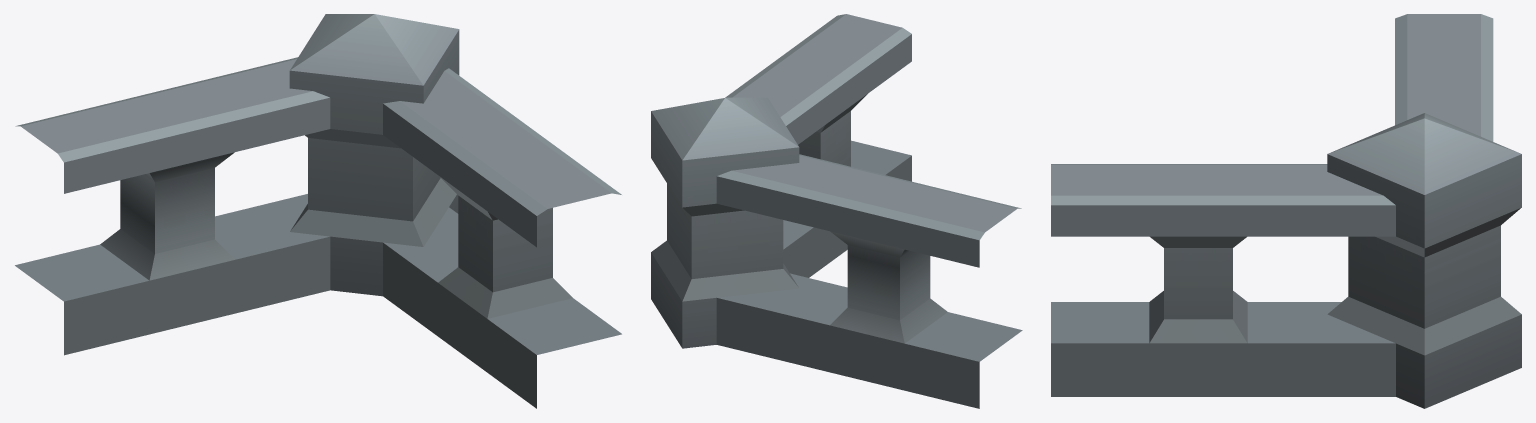
File: barrier-corner-gltf.glb
The picture shows the model from 3 angles, left to right: view 1: azimuth 30°, elevation 25°; view 2: azimuth 150°, elevation 25°; view 3: azimuth 270°, elevation 25°; orthographic projection. The views are drawn at different scales.
Visible parts, largest first — view 1: barrier_corner; view 2: barrier_corner; view 3: barrier_corner.
Part boxes in pixels (left/top/right/bottom): barrier_corner: left=15, top=14, right=621, bottom=408; barrier_corner: left=651, top=14, right=1022, bottom=408; barrier_corner: left=1051, top=14, right=1521, bottom=408.
Size of the model in its own units: 2.39 by 1.4 by 2.39.
Materials: 1 (1 with a texture image).
